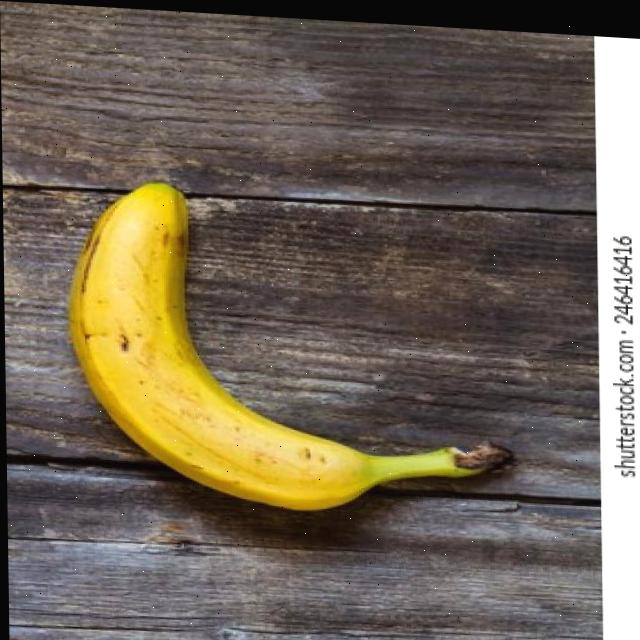banana: (59, 170, 525, 532)
